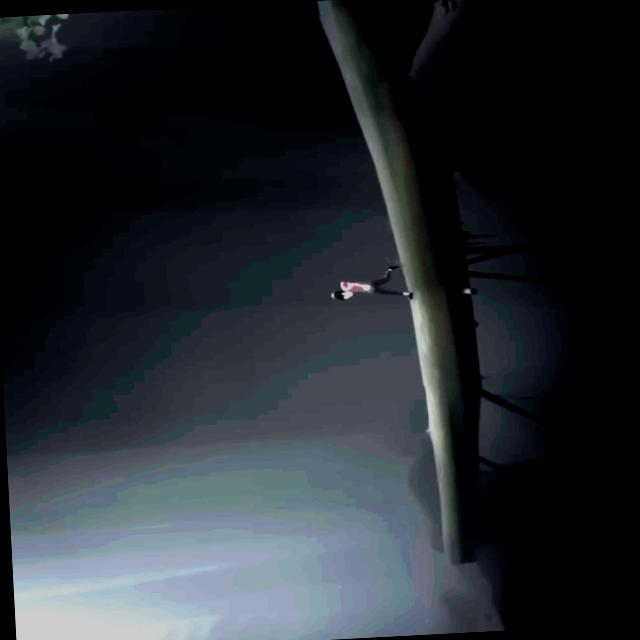boy: (329, 265, 413, 303)
